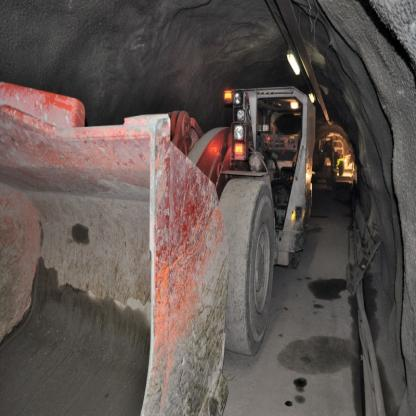bull_dozer/loader/grader: (3, 60, 334, 410)
